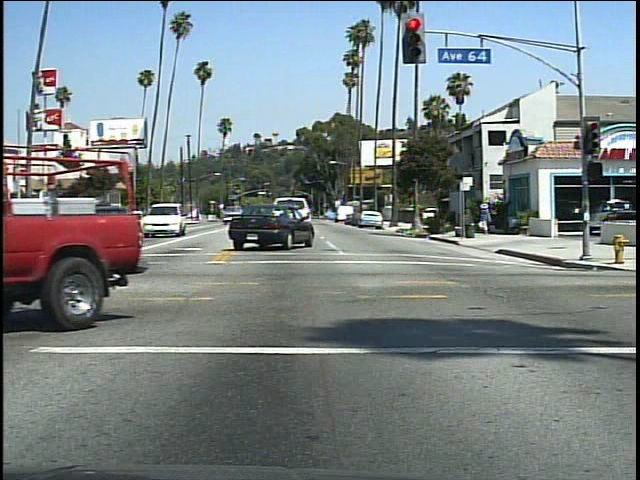person: (476, 199, 497, 237)
